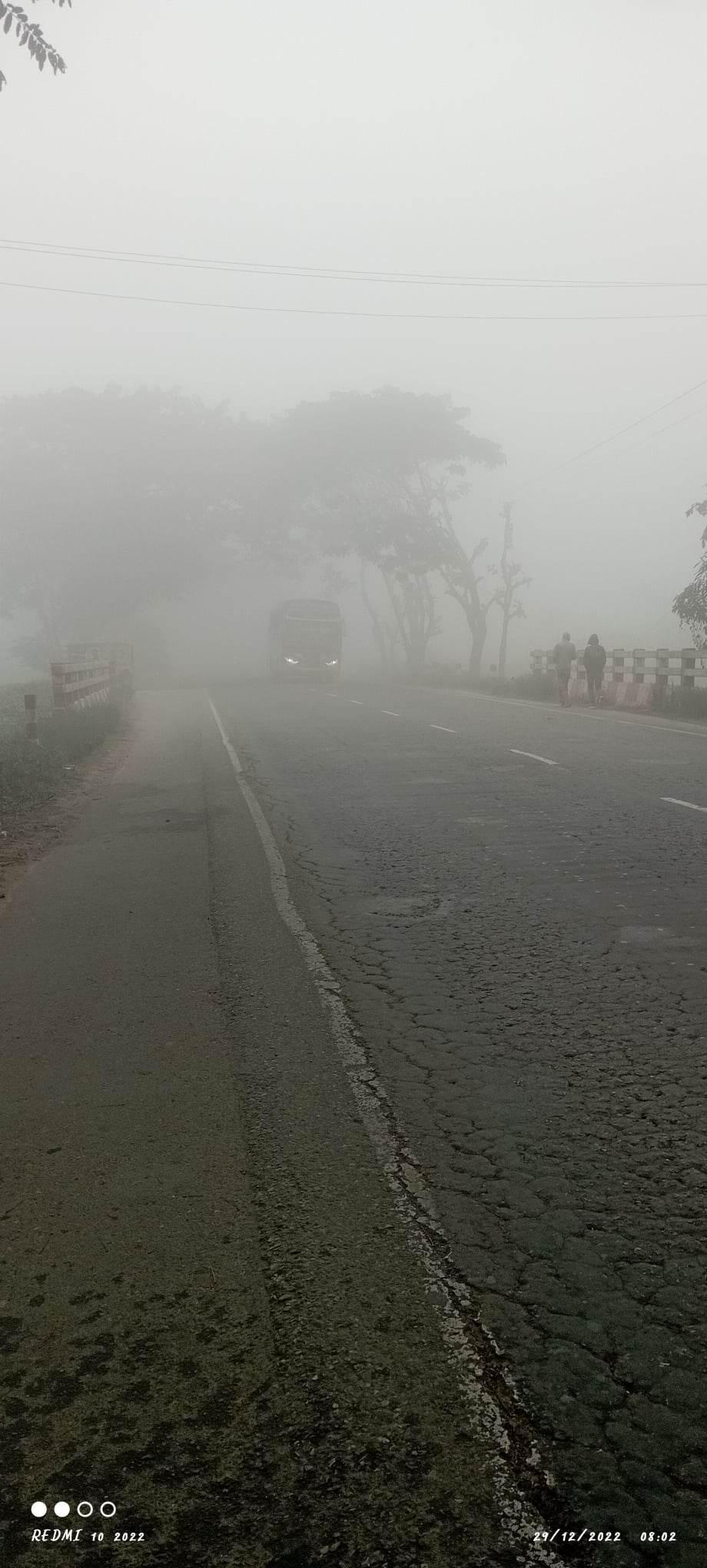Bus: (237, 566, 374, 716)
